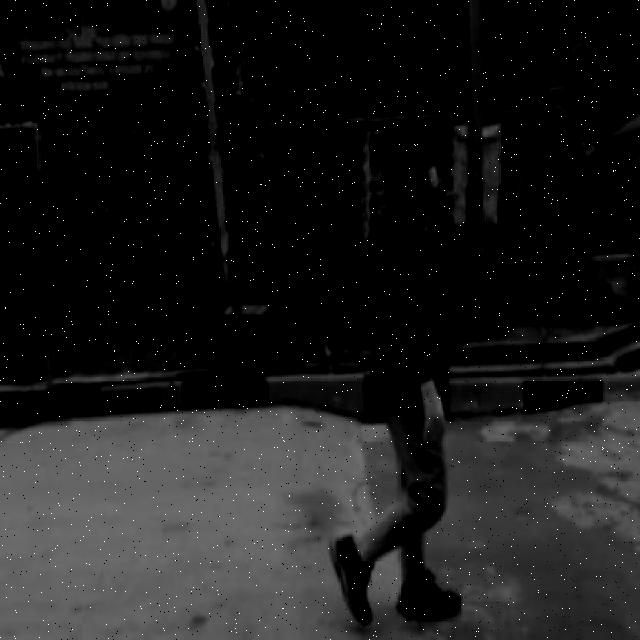Boots: (328, 532, 378, 626), (395, 568, 463, 616)
Gloves: (417, 377, 448, 446)
Mask: (362, 230, 464, 368)
